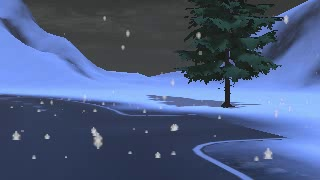Lane: (1, 95, 284, 179)
